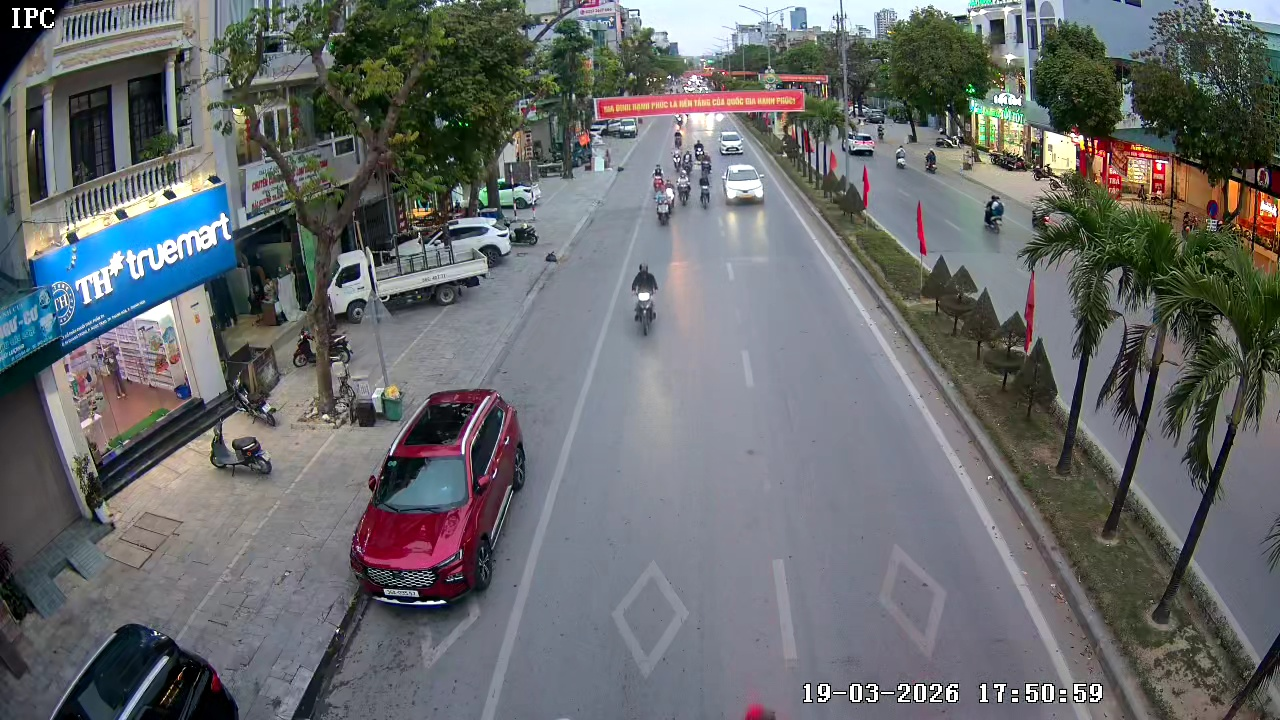car: (346, 388, 529, 605), (722, 161, 766, 207), (844, 131, 878, 158), (717, 128, 743, 157)
motorbike: (209, 411, 276, 477), (629, 260, 661, 337), (654, 182, 674, 226), (694, 140, 712, 183), (675, 169, 693, 207), (697, 169, 714, 209), (672, 147, 691, 178), (671, 118, 685, 152)
